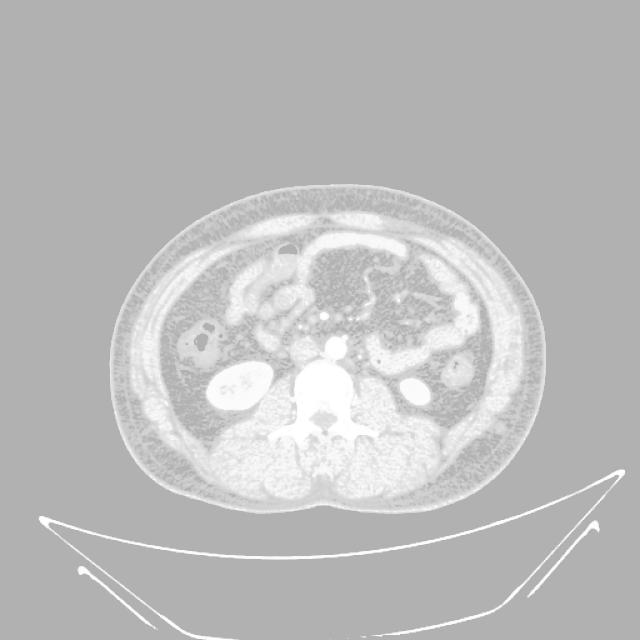NORMAL: (104, 172, 545, 512)
